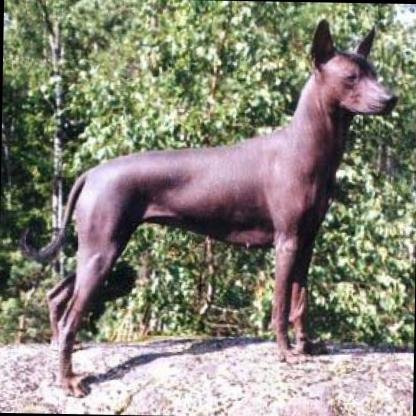Mexican_hairless: (33, 7, 389, 403)
